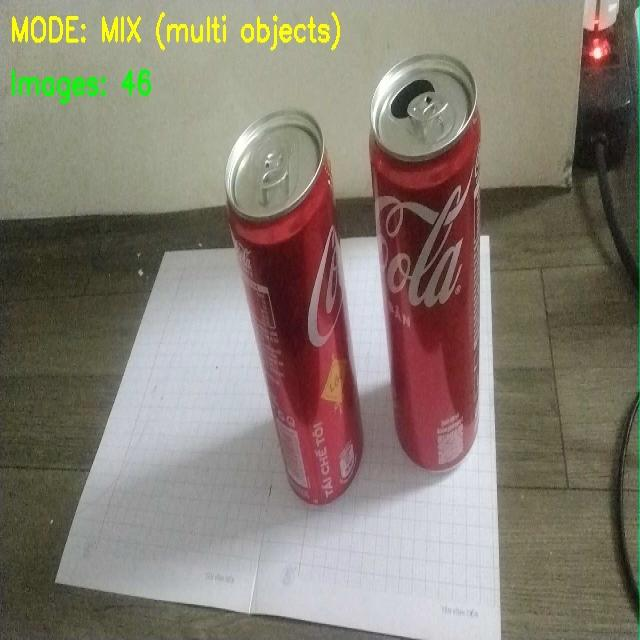Coca: (194, 83, 362, 546)
Coca_open: (361, 59, 523, 485)
